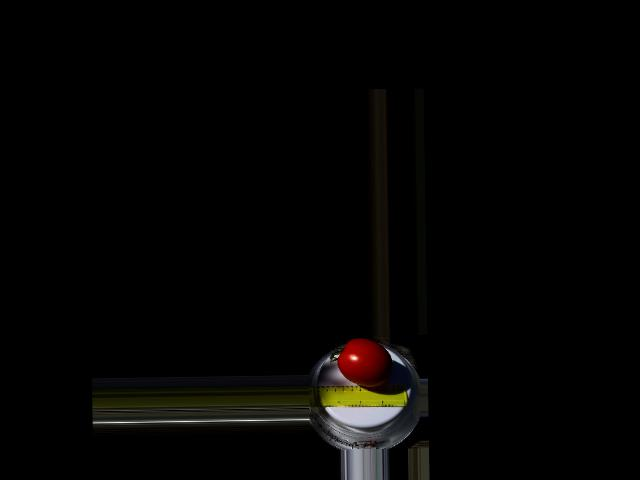tomato: (336, 337, 392, 388)
